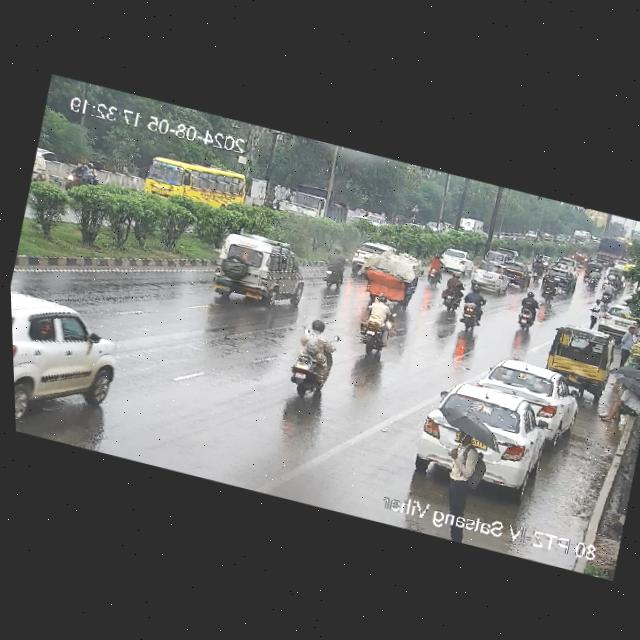bus: (136, 150, 256, 222)
car: (408, 375, 556, 499), (11, 293, 123, 445), (199, 231, 311, 316), (475, 354, 580, 429), (537, 319, 617, 389), (364, 245, 426, 304), (596, 300, 640, 342), (461, 263, 510, 293), (433, 245, 475, 274), (497, 261, 533, 288), (349, 235, 371, 275), (348, 209, 387, 231), (556, 269, 579, 298), (480, 246, 512, 264), (555, 257, 580, 274), (568, 250, 588, 267), (601, 265, 616, 283), (581, 261, 595, 280), (612, 258, 627, 272), (541, 232, 554, 244), (541, 253, 552, 267), (523, 228, 535, 240)
motorcycle: (281, 315, 342, 400), (351, 290, 398, 360), (455, 282, 489, 329), (507, 290, 544, 332), (62, 155, 101, 194), (314, 247, 348, 289), (435, 269, 468, 312), (539, 269, 559, 303), (530, 258, 546, 283), (600, 280, 615, 306), (610, 275, 623, 301), (587, 268, 601, 290), (266, 197, 283, 211), (390, 215, 404, 226), (512, 232, 519, 241), (497, 230, 503, 240)
person: (432, 426, 490, 511), (602, 379, 640, 427), (612, 323, 640, 365), (422, 256, 446, 287), (586, 295, 605, 331), (632, 320, 640, 338), (355, 208, 360, 215)
truck: (286, 181, 352, 227), (593, 236, 626, 266), (461, 215, 484, 236)
